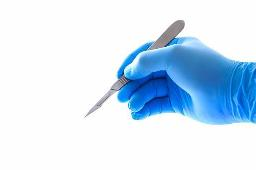scalpel: (83, 19, 185, 118)
